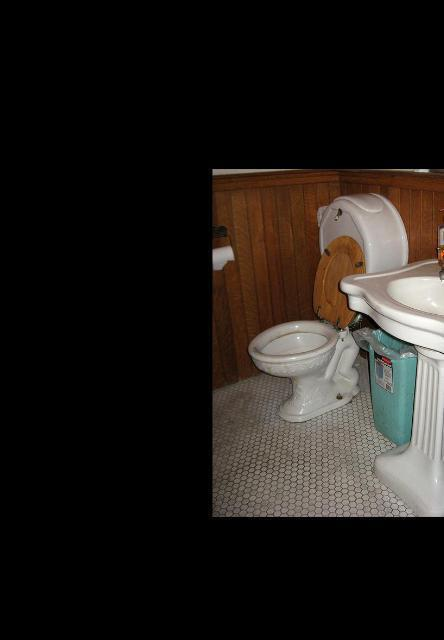Bote de Basura: (361, 327, 433, 446)
Lavamanos: (339, 250, 444, 361)
Sanitario: (243, 203, 393, 425)
